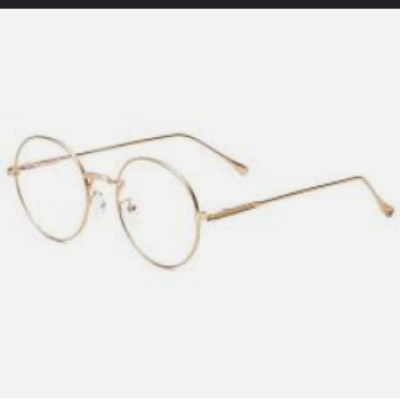glasses: (8, 129, 398, 272)
